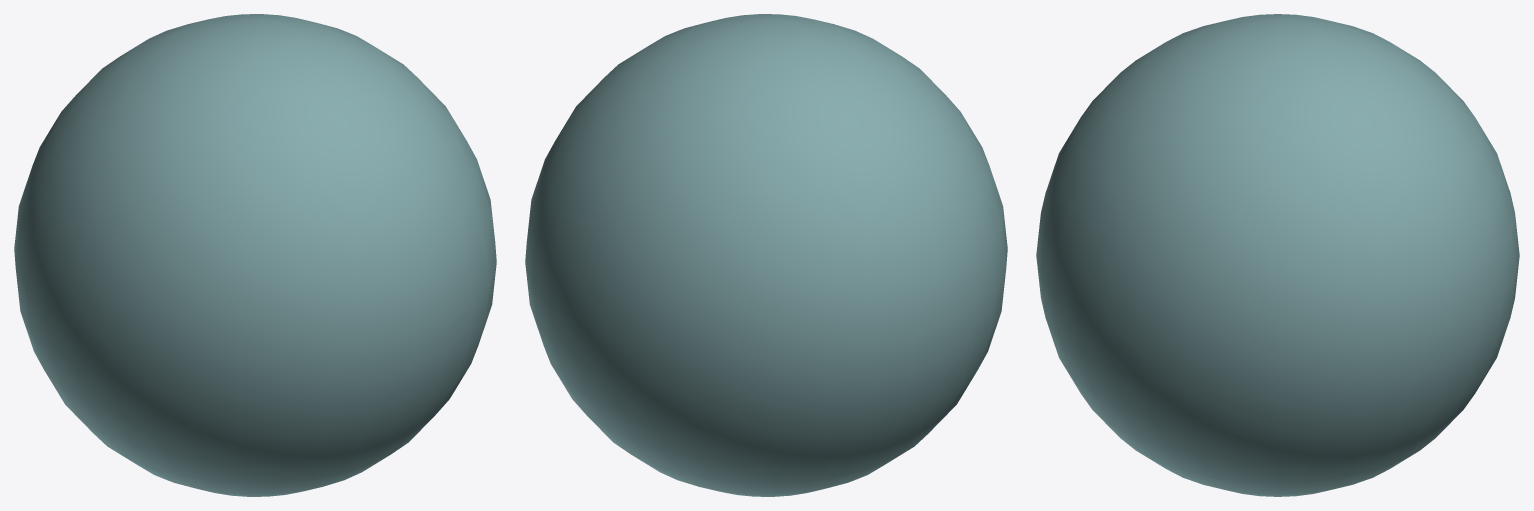
File: 1rplanetaUKE.fbx
3 views of the same model, side by side, from view 1: azimuth 30°, elevation 25°; view 2: azimuth 150°, elevation 25°; view 3: azimuth 270°, elevation 25° (orthographic).
Parts seen in each view (by area): view 1: Sphere.002; view 2: Sphere.002; view 3: Sphere.002.
Boxes of the visible parts, bbox=[...] form: Sphere.002: bbox=[14, 14, 496, 496]; Sphere.002: bbox=[525, 14, 1007, 496]; Sphere.002: bbox=[1036, 14, 1519, 496].
Size of the model in its own units: 57.16 by 57.16 by 57.16.
